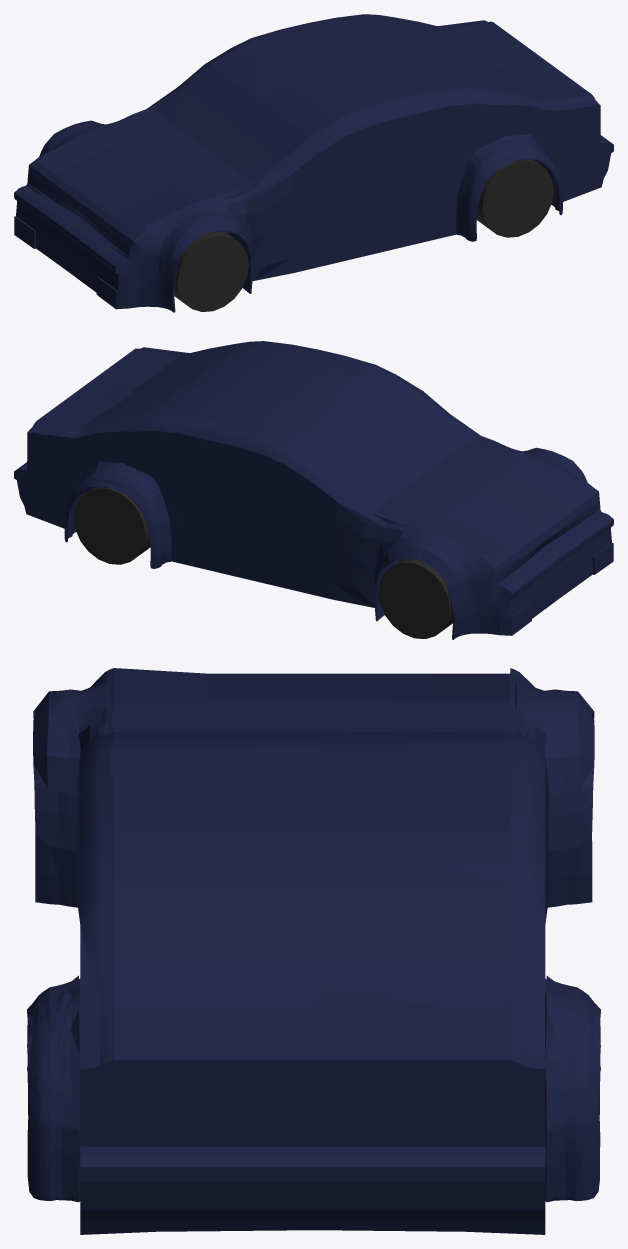
The model's file is BMW_m3.fbx.
3 renders of one model, top to bottom at view 1: azimuth 30°, elevation 25°; view 2: azimuth 150°, elevation 25°; view 3: azimuth 270°, elevation 25°, orthographic. The views are drawn at different scales.
Visible parts, largest first — view 1: Body2, pCylinder1, pCylinder2; view 2: Body2, pCylinder4, pCylinder3; view 3: Body2.
Boxes of the visible parts, x1,y1,x2,y2 form: Body2: (14, 14, 613, 312); pCylinder1: (174, 231, 248, 311); pCylinder2: (477, 160, 553, 237); Body2: (14, 341, 613, 639); pCylinder4: (378, 558, 452, 638); pCylinder3: (73, 487, 150, 564); Body2: (27, 668, 600, 1234).
Size of the model in its own units: 473 by 136 by 239.
